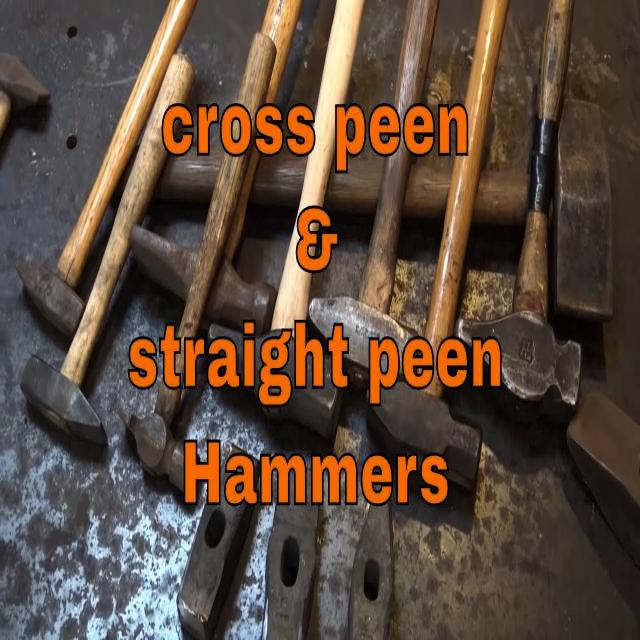hammer: (105, 75, 625, 321), (121, 21, 279, 506), (362, 0, 510, 510), (13, 48, 198, 454), (206, 0, 364, 452), (128, 0, 324, 341), (13, 0, 204, 341), (455, 0, 584, 437), (308, 0, 444, 391)
